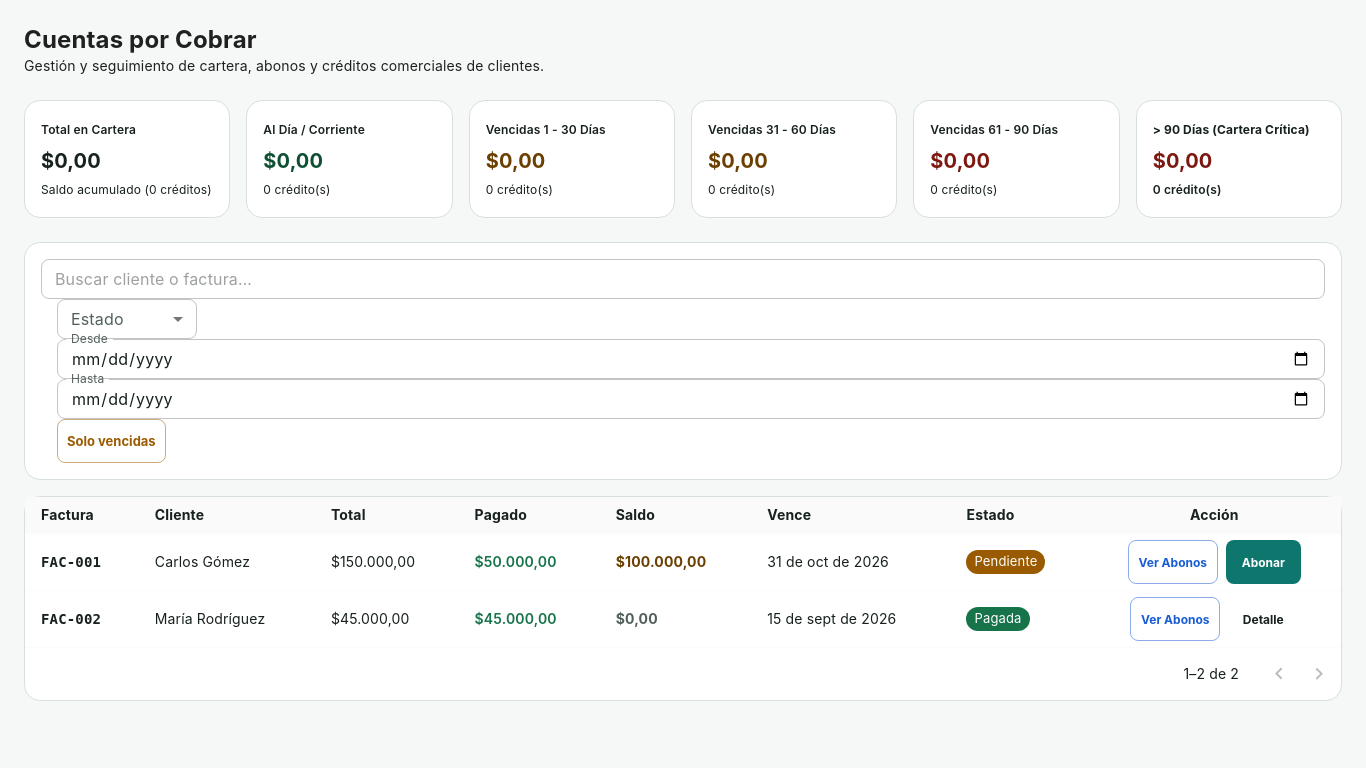
Test: ReceivablesPage (Frontend Cuentas por Cobrar — UX-21) › abre el modal de abono al hacer click en Abonar
Expected: the text "Carlos Gómez" is shown, [139, 534, 315, 590]
Click the button "Abonar": (1263, 562) [1226, 540, 1301, 584]
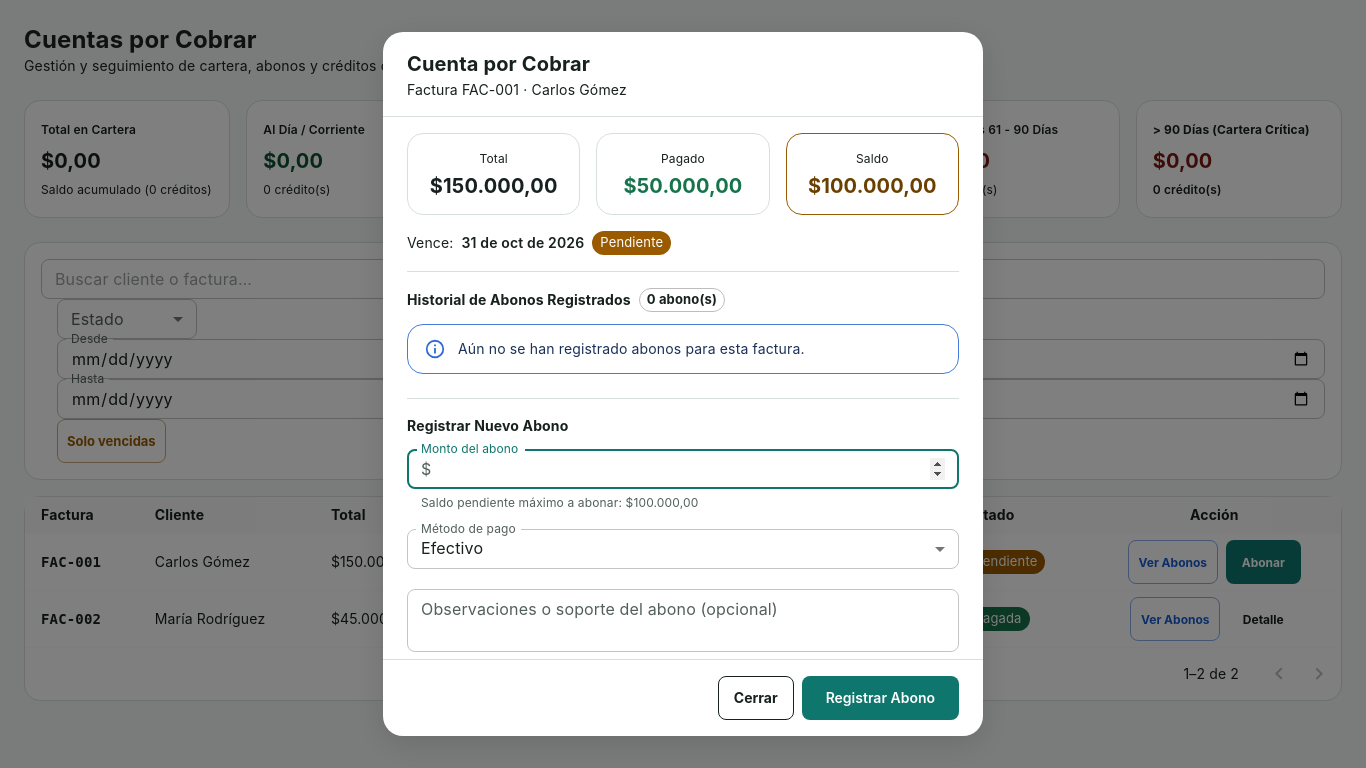
Expected: the text "Cuenta por Cobrar" is shown, [407, 52, 590, 76]
Expected: the number field labelled "Monto del abono" is shown, [439, 449, 959, 489]
